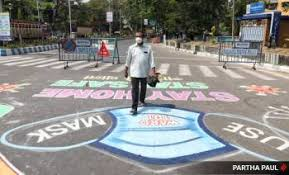mask: (134, 33, 143, 42)
